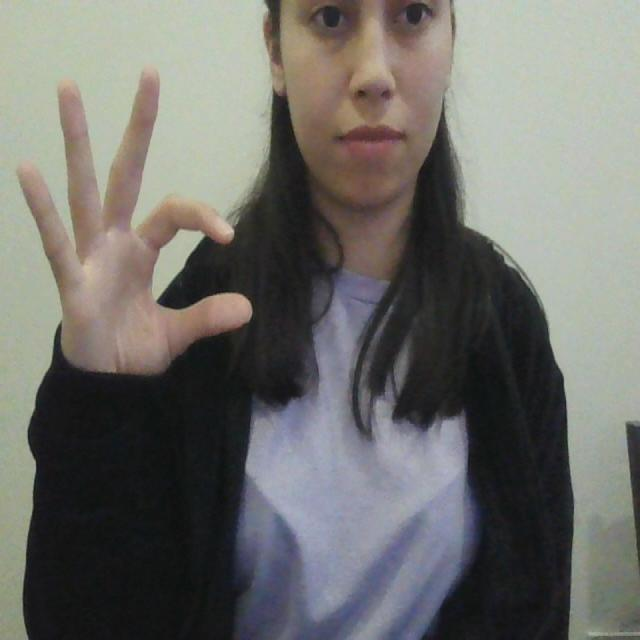Tuvalet: (2, 47, 272, 413)
